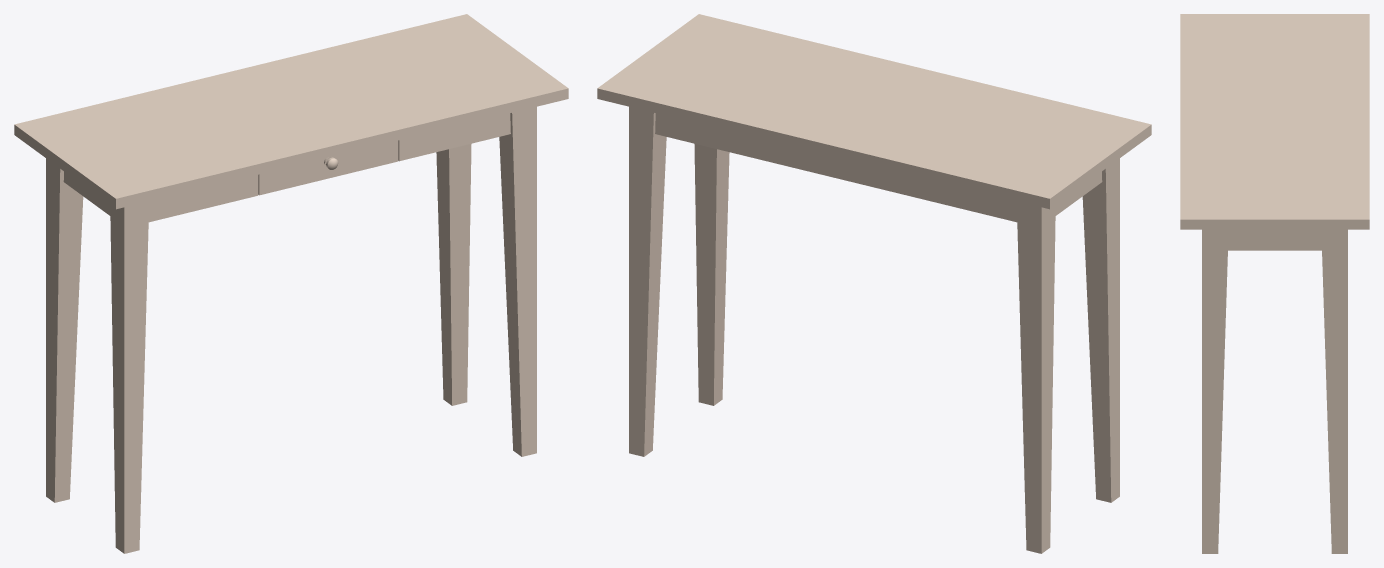
The model's file is 471_コンソールテーブル.glb.
3 renders of one model, left to right at view 1: azimuth 30°, elevation 25°; view 2: azimuth 150°, elevation 25°; view 3: azimuth 270°, elevation 25°, orthographic. The views are drawn at different scales.
Parts seen in each view (by area): view 1: body, hikidashi; view 2: body; view 3: body.
Part boxes in pixels (<box>): body: <box>14,14,568,553</box>; hikidashi: <box>258,140,398,195</box>; body: <box>597,14,1151,553</box>; body: <box>1180,14,1369,553</box>.
Bounding box in the file's own units: 0.9 × 0.7 × 0.35.
